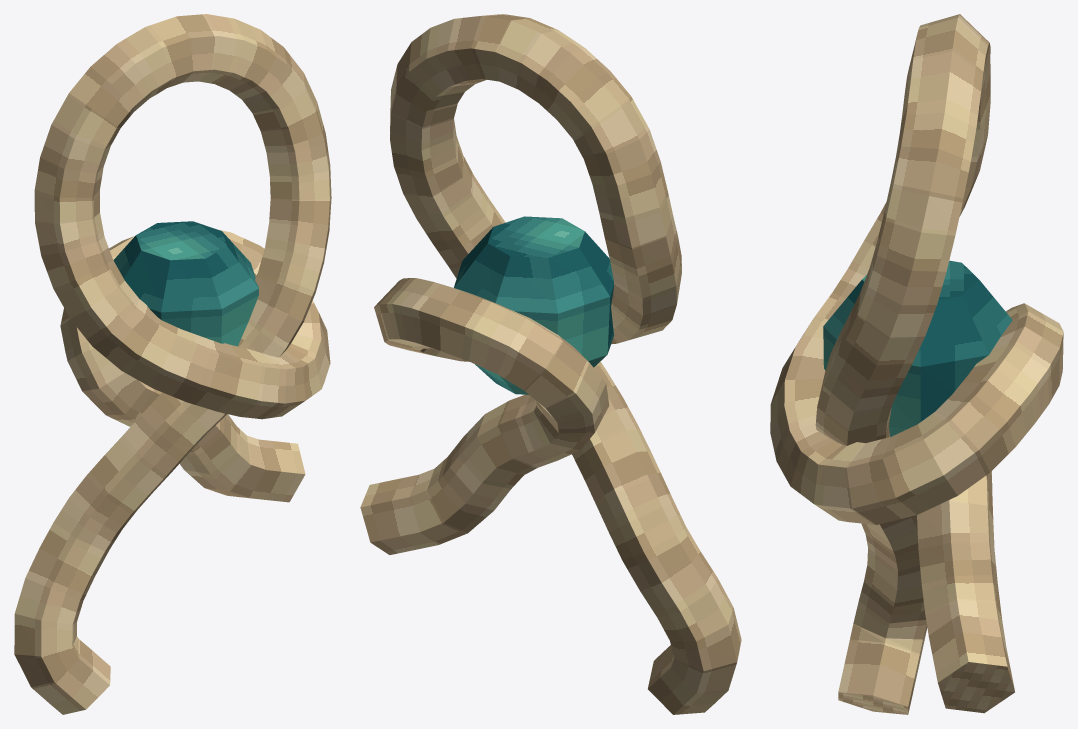
Rendered from knotted_thread.obj.
3 views of the same model, side by side, from view 1: azimuth 30°, elevation 25°; view 2: azimuth 150°, elevation 25°; view 3: azimuth 270°, elevation 25° (orthographic). The views are drawn at different scales.
Visible parts, largest first — view 1: knotted_cord, pearl; view 2: knotted_cord, pearl; view 3: knotted_cord, pearl.
Part boxes in pixels (<box>): knotted_cord: <box>14,14,331,714</box>; pearl: <box>113,221,258,346</box>; knotted_cord: <box>360,14,741,714</box>; pearl: <box>454,216,614,394</box>; knotted_cord: <box>770,14,1063,714</box>; pearl: <box>823,260,1012,436</box>.
Bounding box in the file's own units: 0.3221 × 0.6158 × 0.213.
